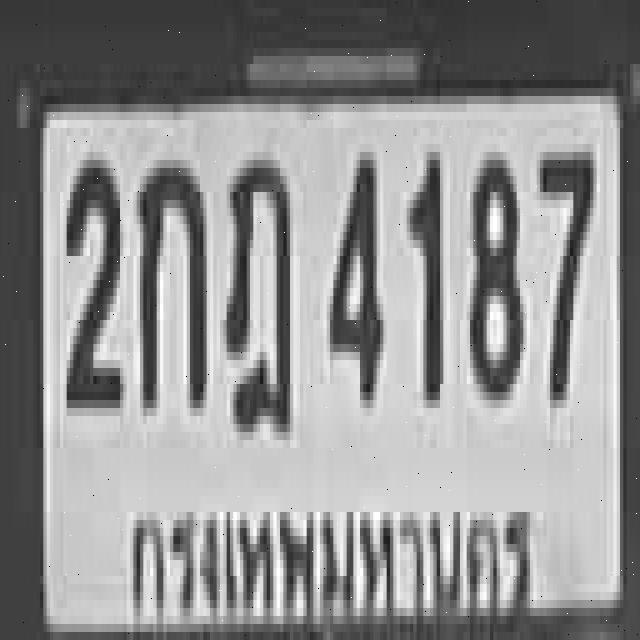1: (406, 140, 441, 396)
10GorGai: (137, 152, 203, 400)
2: (64, 148, 120, 396)
23DorChaDa: (223, 148, 290, 428)
4: (326, 140, 381, 396)
7: (536, 140, 590, 396)
8: (466, 144, 520, 392)
Bangkok: (117, 479, 538, 640)
